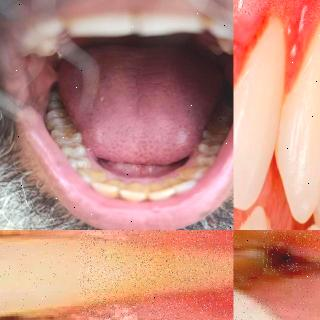Gum Swelling: (84, 230, 234, 320), (233, 0, 320, 75)
calculus: (126, 180, 146, 202), (166, 174, 194, 189), (102, 178, 124, 195), (146, 182, 169, 198), (86, 167, 106, 184), (180, 166, 203, 180), (78, 158, 97, 171), (73, 145, 88, 158)
